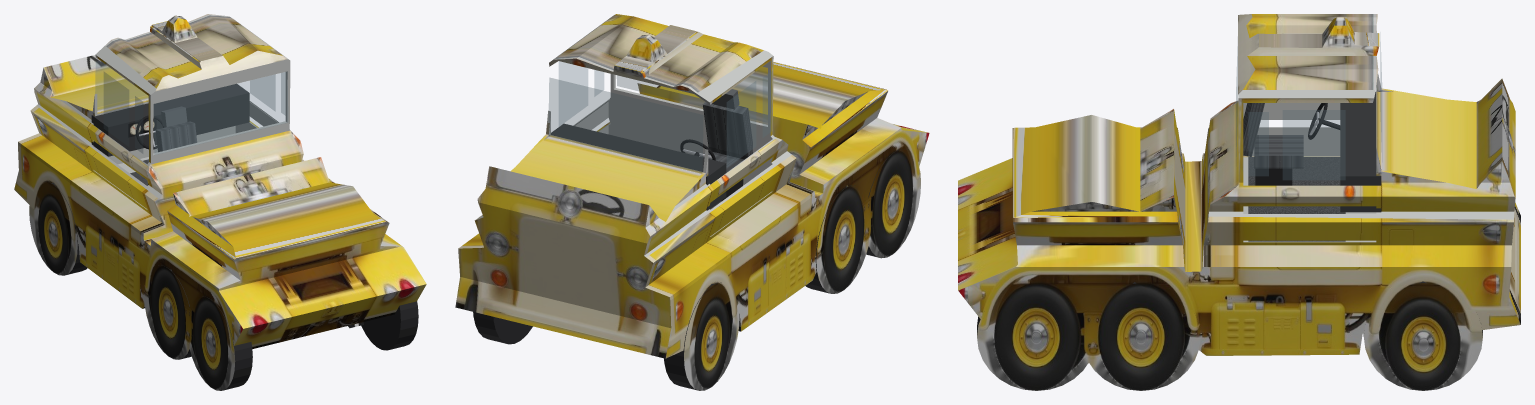
The model's file is yard_tug.glb.
The picture shows the model from 3 angles, left to right: view 1: azimuth 30°, elevation 25°; view 2: azimuth 150°, elevation 25°; view 3: azimuth 270°, elevation 25°; orthographic projection. The views are drawn at different scales.
Parts seen in each view (by area): view 1: yard_tug, yard_tug_cabin, wheel_BL, wheel_FL, wheel_M1L, wheel_BR; view 2: yard_tug, yard_tug_cabin, wheel_FL, wheel_M1L, wheel_BL, wheel_FR; view 3: yard_tug, yard_tug_cabin, wheel_FR, wheel_BR, wheel_M1R.
Boxes of the visible parts, bbox=[...] form: yard_tug: bbox=[14, 14, 426, 348]; yard_tug_cabin: bbox=[91, 61, 287, 185]; wheel_BL: bbox=[186, 296, 252, 390]; wheel_FL: bbox=[29, 181, 87, 275]; wheel_M1L: bbox=[144, 265, 192, 359]; wheel_BR: bbox=[361, 301, 418, 350]; yard_tug: bbox=[455, 14, 929, 358]; yard_tug_cabin: bbox=[548, 61, 771, 210]; wheel_FL: bbox=[664, 282, 739, 390]; wheel_M1L: bbox=[805, 185, 871, 293]; wheel_BL: bbox=[866, 149, 920, 258]; wheel_FR: bbox=[473, 312, 532, 344]; yard_tug: bbox=[958, 14, 1520, 363]; yard_tug_cabin: bbox=[1236, 42, 1381, 241]; wheel_FR: bbox=[1363, 281, 1482, 390]; wheel_BR: bbox=[977, 288, 1095, 390]; wheel_M1R: bbox=[1081, 282, 1200, 390].
Bounding box in the file's own units: 2.55 × 3.42 × 5.49.
Materials: 12 (4 with a texture image).
